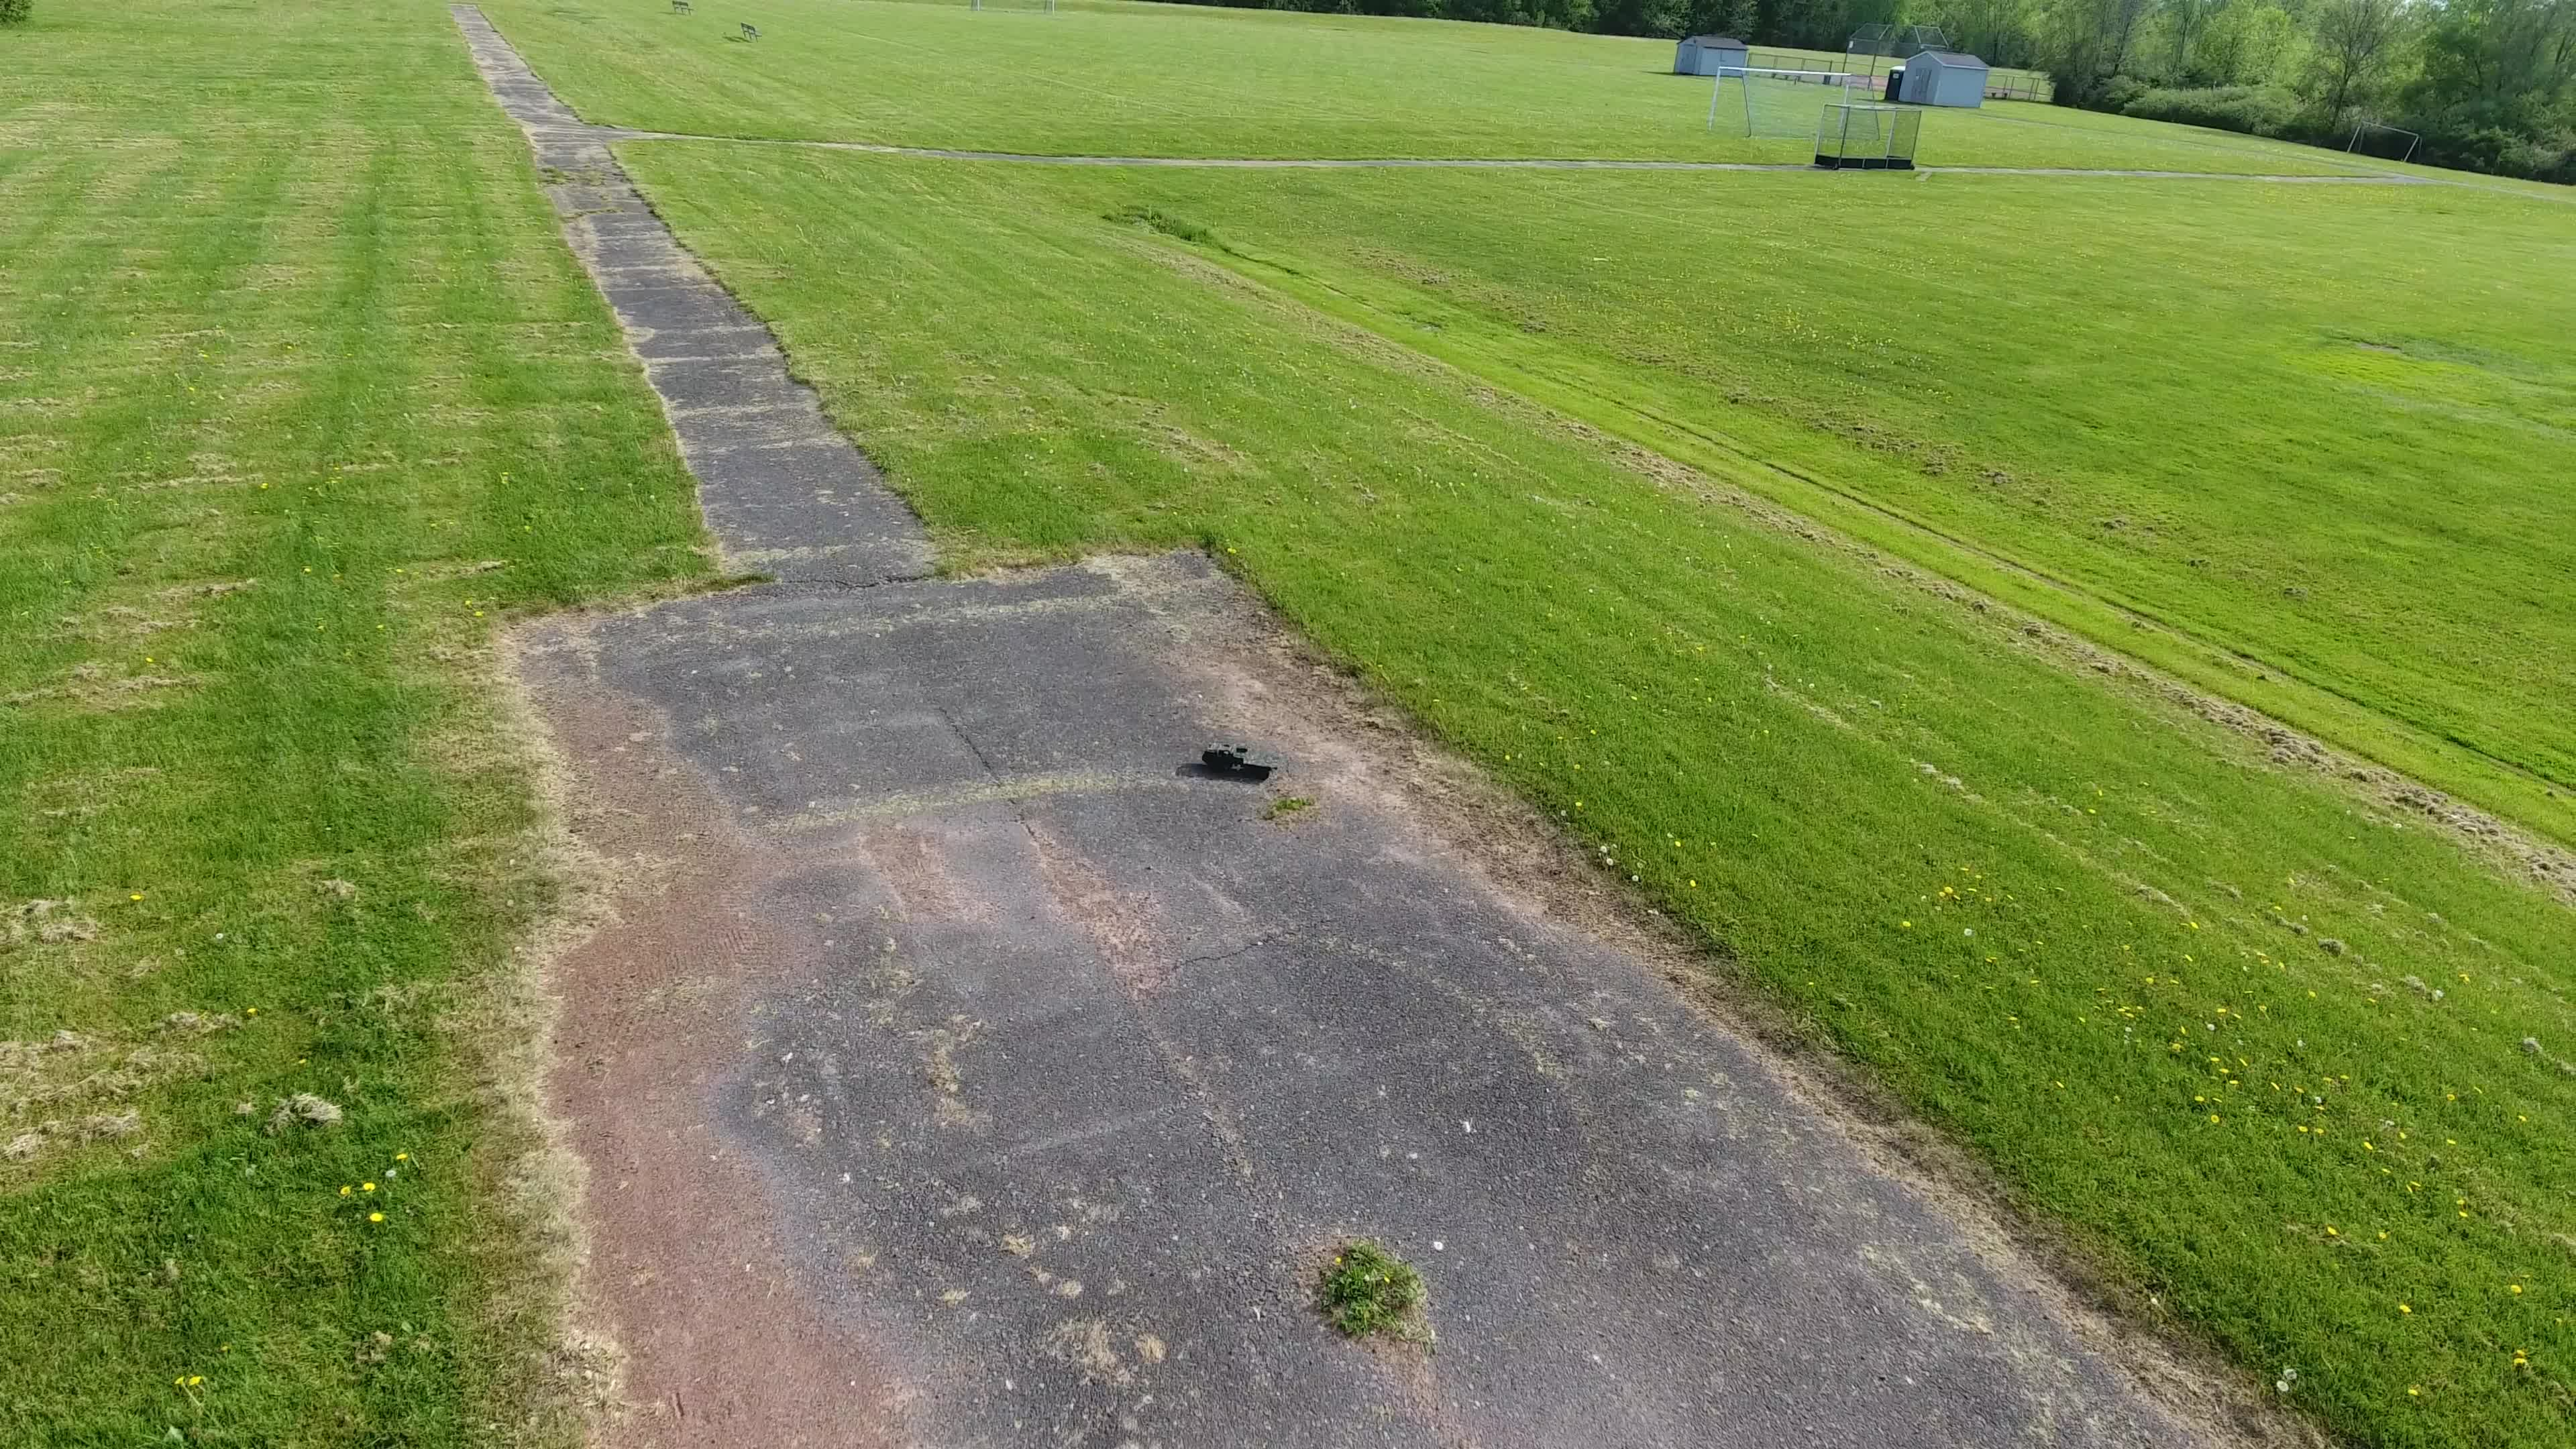transporter9: (1200, 738, 1283, 778)
